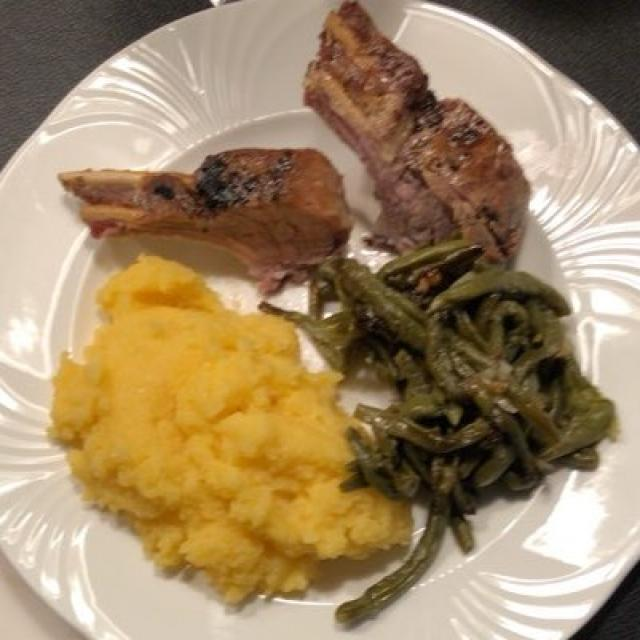beans: (245, 254, 608, 623)
lamb: (75, 12, 534, 279)
polenta: (48, 262, 421, 612)
